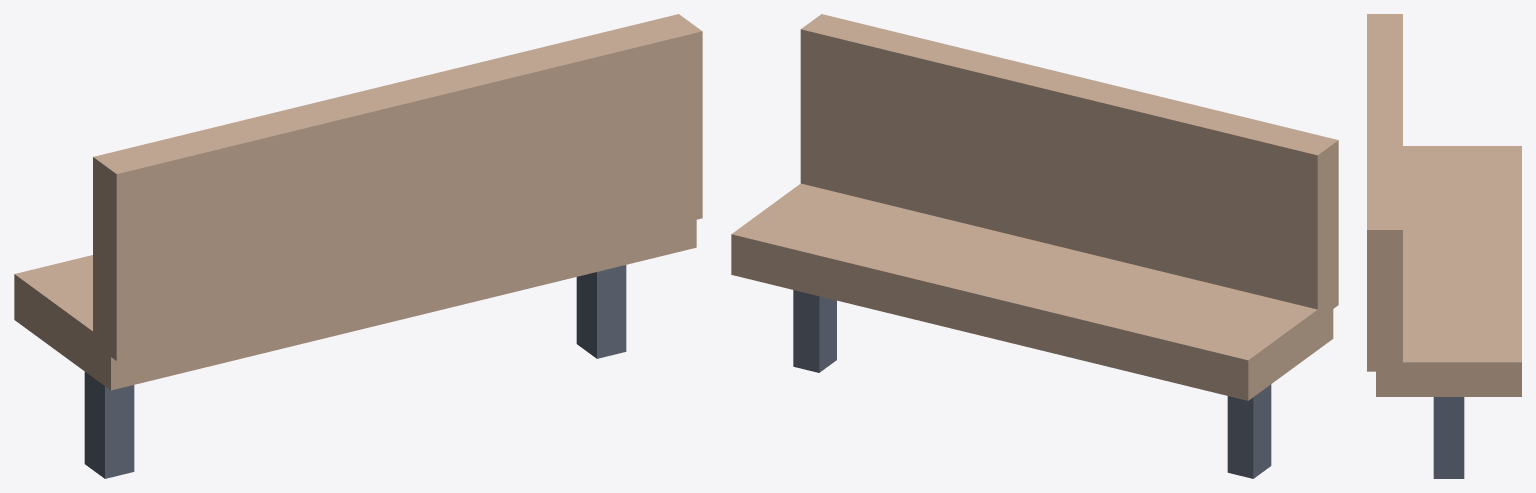
The model's file is banco_plaza.glb.
3 views of the same model, side by side, from view 1: azimuth 30°, elevation 25°; view 2: azimuth 150°, elevation 25°; view 3: azimuth 270°, elevation 25° (orthographic). The views are drawn at different scales.
Visible parts, largest first — view 1: BenchBack_2, BenchSeat_1, BenchLeg_3, BenchLeg_4; view 2: BenchBack_2, BenchSeat_1, BenchLeg_3, BenchLeg_4; view 3: BenchSeat_1, BenchBack_2, BenchLeg_4.
Part boxes in pixels (bbox=[...]): BenchBack_2: bbox=[93, 14, 702, 360]; BenchSeat_1: bbox=[14, 219, 696, 390]; BenchLeg_3: bbox=[84, 372, 134, 478]; BenchLeg_4: bbox=[576, 265, 626, 358]; BenchBack_2: bbox=[800, 14, 1338, 309]; BenchSeat_1: bbox=[731, 183, 1333, 400]; BenchLeg_3: bbox=[1227, 384, 1271, 478]; BenchLeg_4: bbox=[793, 290, 836, 372]; BenchSeat_1: bbox=[1376, 146, 1521, 396]; BenchBack_2: bbox=[1367, 14, 1402, 371]; BenchLeg_4: bbox=[1433, 397, 1464, 478].
Size of the model in its own units: 2 by 1.13 by 0.605.
